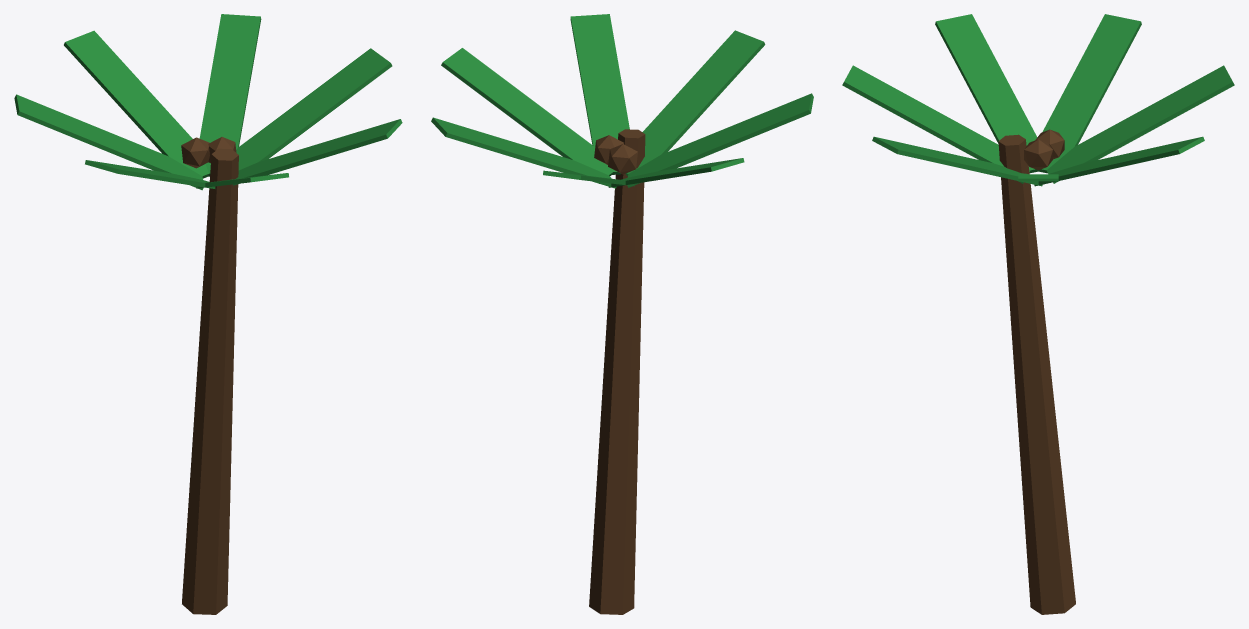
The model's file is palm_tree.glb.
3 views of the same model, side by side, from view 1: azimuth 30°, elevation 25°; view 2: azimuth 150°, elevation 25°; view 3: azimuth 270°, elevation 25° (orthographic).
Parts seen in each view (by area): view 1: palm_tree; view 2: palm_tree; view 3: palm_tree.
Boxes of the visible parts, x1,y1,x2,y2 form: palm_tree: (14,14,402,614); palm_tree: (431,14,813,614); palm_tree: (842,14,1234,614).
Bounding box in the file's own units: 3.34 × 4.97 × 3.43.
